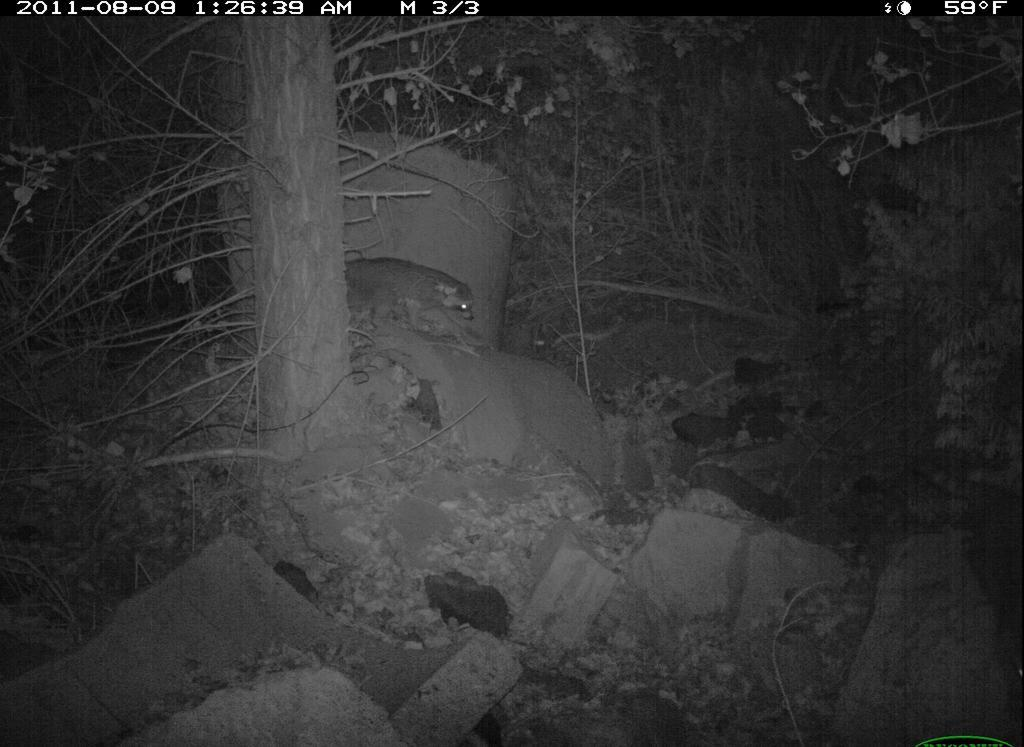raccoon: (342, 248, 495, 342)
